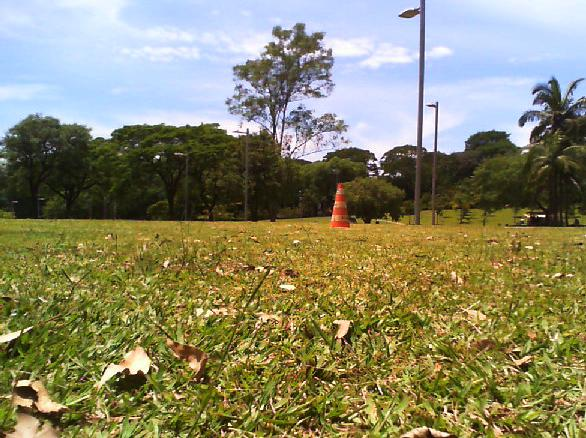0 cone: (328, 184, 352, 230)
